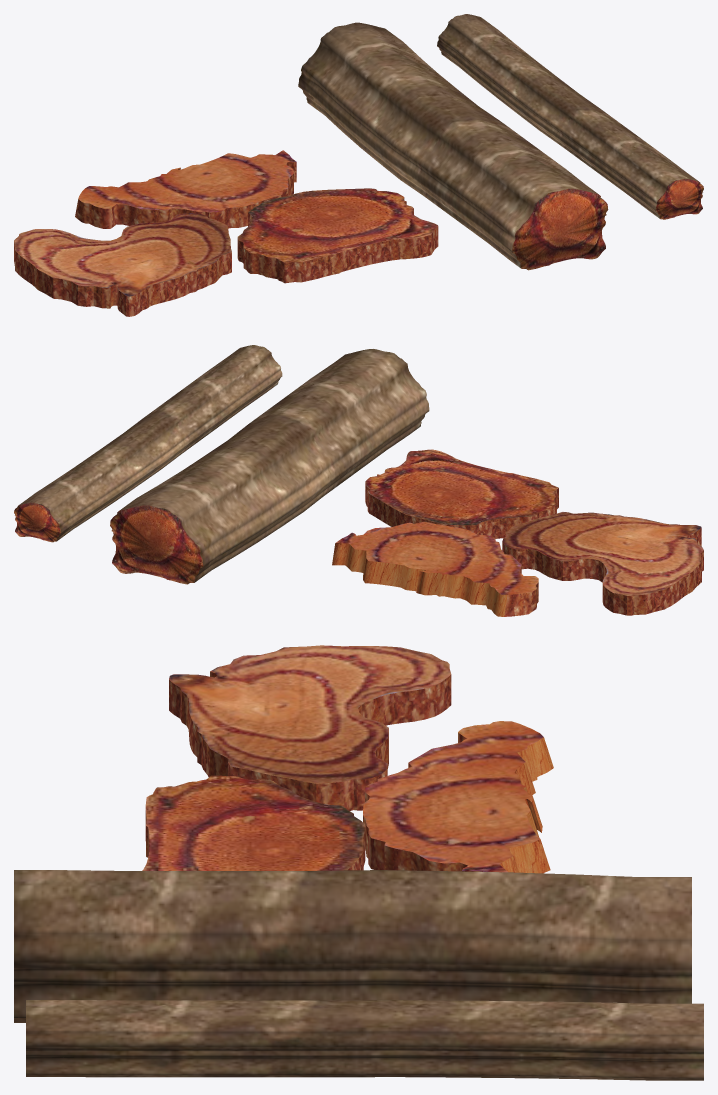
Rendered from jixueteng.FBX.
3 views of the same model, one above another, from view 1: azimuth 30°, elevation 25°; view 2: azimuth 150°, elevation 25°; view 3: azimuth 270°, elevation 25° (orthographic). The views are drawn at different scales.
Parts seen in each view (by area): view 1: Line004, Line005, Line001, Line002, Line003; view 2: Line004, Line005, Line001, Line003, Line002; view 3: Line004, Line005, Line001, Line003, Line002.
Part boxes in pixels (x1,y1,x2,y2): Line004: (298,22,608,270); Line005: (437,14,703,219); Line001: (14,213,231,316); Line002: (237,188,438,283); Line003: (75,150,296,228); Line004: (110,349,429,584); Line005: (14,345,282,542); Line001: (502,512,703,615); Line003: (332,521,538,616); Line002: (365,449,558,538); Line004: (14,870,691,1022); Line005: (26,1000,703,1080); Line001: (169,645,451,810); Line003: (363,721,553,873); Line002: (142,775,365,870).
Bounding box in the file's own units: 72.36 × 9.31 × 49.73.
2 materials, 2 textured.
